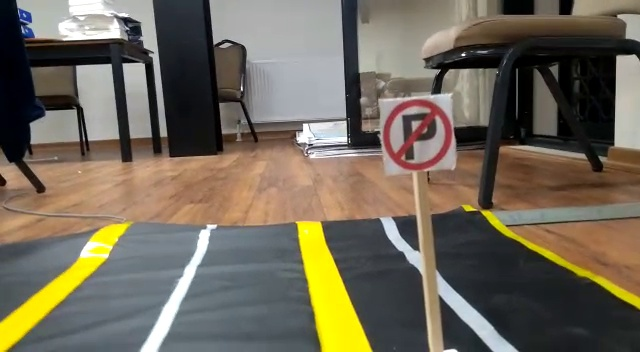park_yapilmaz: (381, 99, 453, 170)
